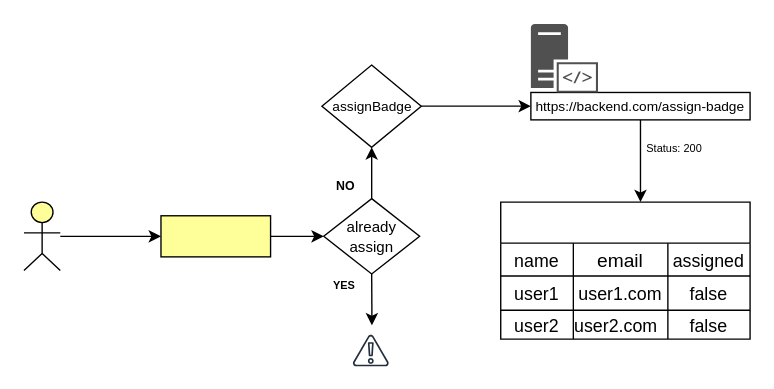
This 774x389 diagram has some shape labels left out. Here are the shapes that lost their labels. From the top down, the box of each, then its label:
(160, 214, 271, 257): complete tour
(499, 201, 750, 339): Students Data
